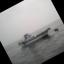fishing boat: (14, 20, 56, 53)
